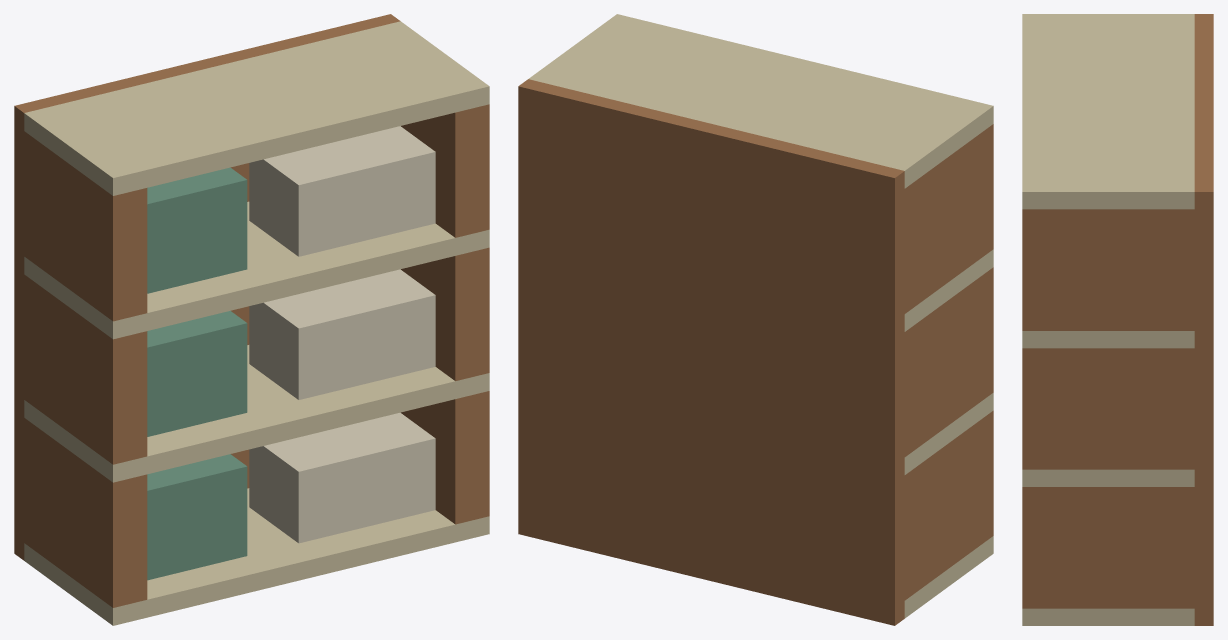
The model's file is finance-12.glb.
3 views of the same model, side by side, from view 1: azimuth 30°, elevation 25°; view 2: azimuth 150°, elevation 25°; view 3: azimuth 270°, elevation 25° (orthographic). The views are drawn at different scales.
Visible parts, largest first — view 1: Document cabinet; view 2: Document cabinet; view 3: Document cabinet.
Part boxes in pixels (x1=…): Document cabinet: x1=14, y1=14, x2=489, y2=625; Document cabinet: x1=518, y1=14, x2=993, y2=625; Document cabinet: x1=1022, y1=14, x2=1213, y2=625.
Size of the model in its own units: 1.76 by 2 by 0.8.
